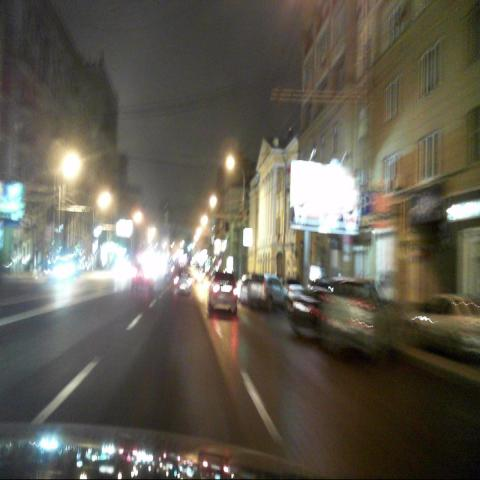6_4: (360, 193, 372, 214)
